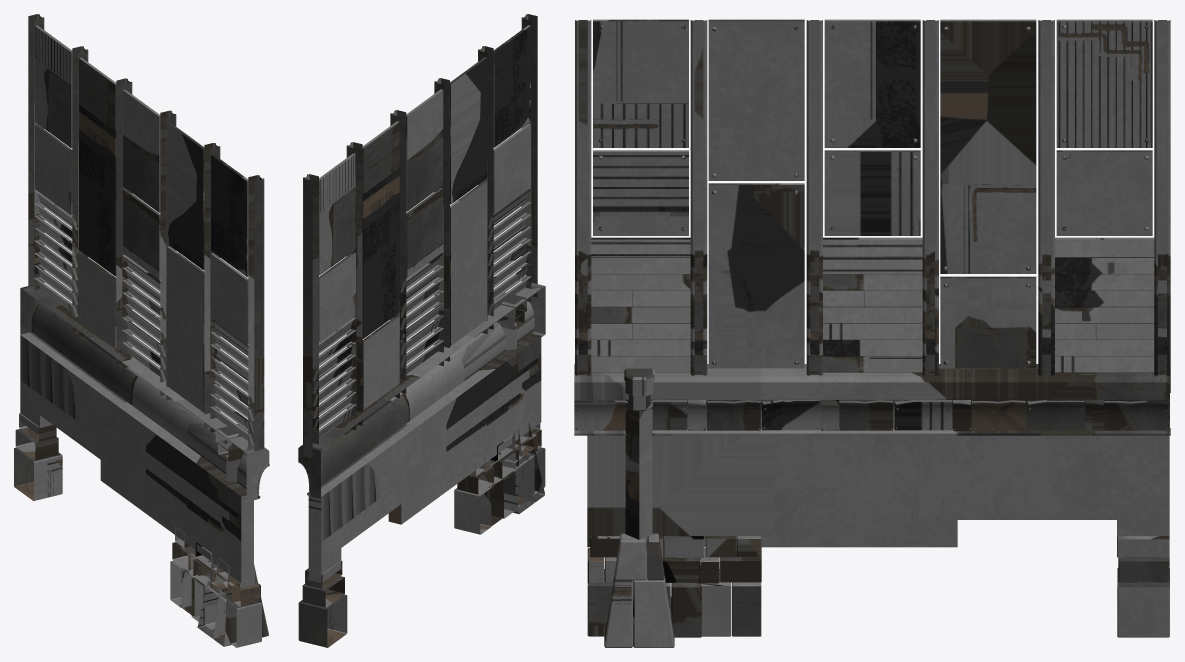
Rendered from M3_Bo_MedalWorks-Stone_wall_opening_low.fbx.
3 views of the same model, side by side, from view 1: azimuth 30°, elevation 25°; view 2: azimuth 150°, elevation 25°; view 3: azimuth 270°, elevation 25° (orthographic). The views are drawn at different scales.
Visible parts, largest first — view 1: Stone_wall6_low, Stone_wall2_low, Stone_wall_support4_low, Stone_wall5_low, Stone_wall4.5_low, Stone_wall1_low, Stone_wall_support1_low, Stone_wall_support3_low; view 2: Stone_wall6_low, Stone_wall2_low, Stone_wall_support4_low, Stone_wall5_low, Stone_wall4.5_low, Stone_wall1_low, Stone_wall_support1_low, Stone_wall_support3_low; view 3: Stone_wall6_low, Stone_wall2_low, Stone_wall5_low, Stone_wall_support4_low, Stone_wall4_low, Stone_wall1_low, Stone_wall4.5_low, Stone_wall_support1_low, Stone_wall_support2_low, Stone_wall_support3_low.
Part boxes in pixels (x1,y1,x2,y2): Stone_wall6_low: [35, 25, 248, 412]; Stone_wall2_low: [20, 332, 253, 583]; Stone_wall_support4_low: [28, 14, 264, 451]; Stone_wall5_low: [34, 190, 254, 445]; Stone_wall4.5_low: [20, 284, 269, 501]; Stone_wall1_low: [14, 413, 261, 647]; Stone_wall_support1_low: [197, 554, 268, 646]; Stone_wall_support3_low: [215, 424, 248, 461]; Stone_wall6_low: [319, 25, 530, 409]; Stone_wall2_low: [308, 333, 541, 582]; Stone_wall_support4_low: [303, 14, 537, 462]; Stone_wall5_low: [313, 189, 531, 443]; Stone_wall4.5_low: [298, 283, 545, 498]; Stone_wall1_low: [298, 415, 545, 647]; Stone_wall_support1_low: [502, 421, 544, 513]; Stone_wall_support3_low: [493, 292, 526, 329]; Stone_wall6_low: [593, 19, 1152, 368]; Stone_wall2_low: [587, 435, 1169, 547]; Stone_wall5_low: [591, 237, 1154, 372]; Stone_wall_support4_low: [575, 20, 1170, 392]; Stone_wall4_low: [574, 400, 1170, 435]; Stone_wall1_low: [587, 536, 1169, 637]; Stone_wall4.5_low: [574, 364, 1169, 428]; Stone_wall_support1_low: [604, 533, 674, 647]; Stone_wall_support2_low: [625, 408, 652, 539]; Stone_wall_support3_low: [624, 368, 654, 410].
Bounding box in the file's own units: 364 × 3528 × 3088.
